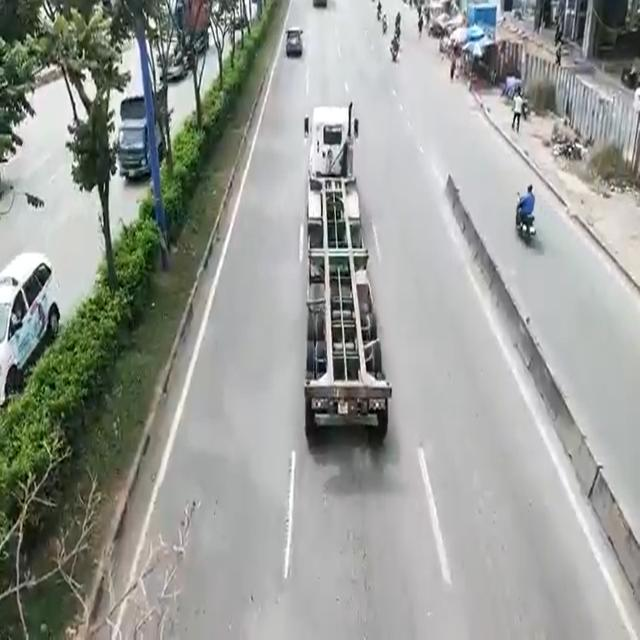truck: (305, 105, 388, 439)
